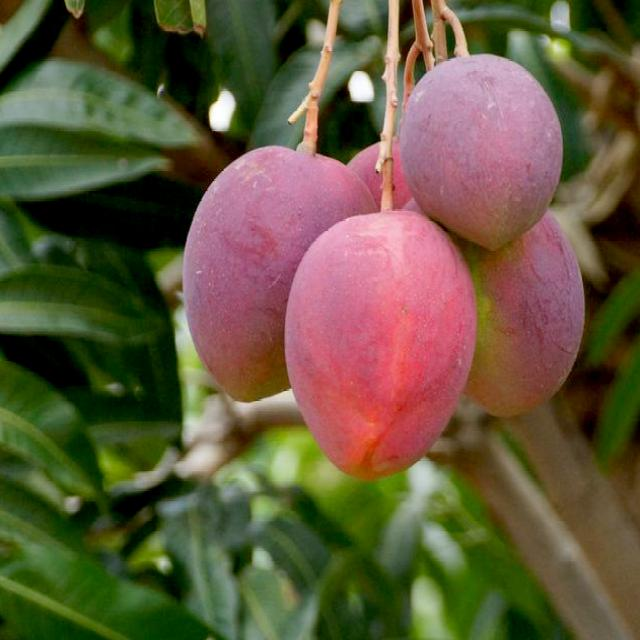mango: (281, 196, 476, 474), (191, 134, 364, 410), (402, 50, 575, 266)
